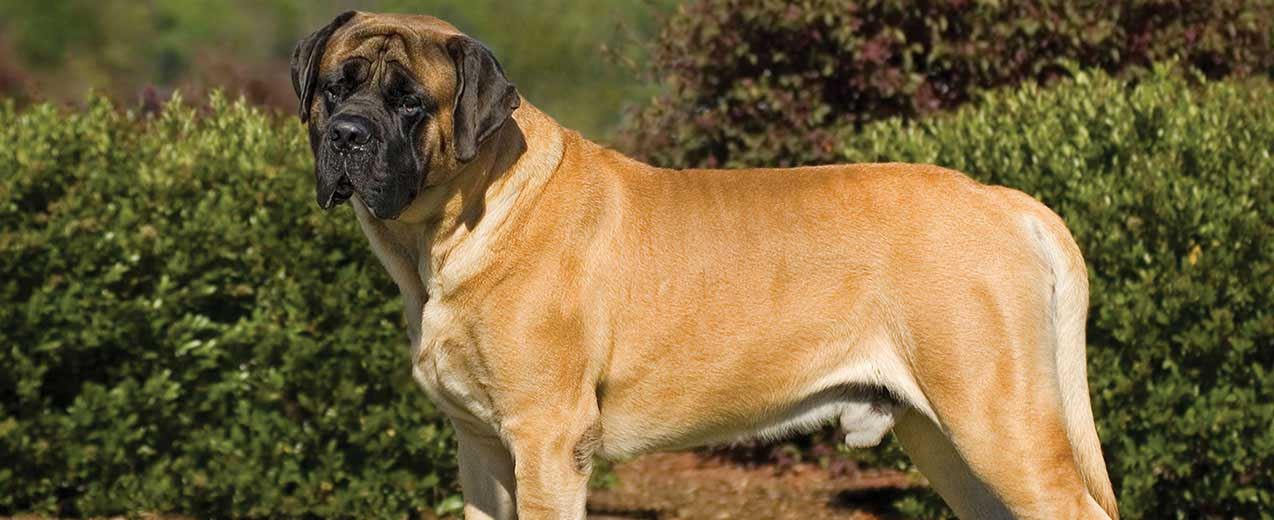mastiff: (291, 10, 1121, 520)
